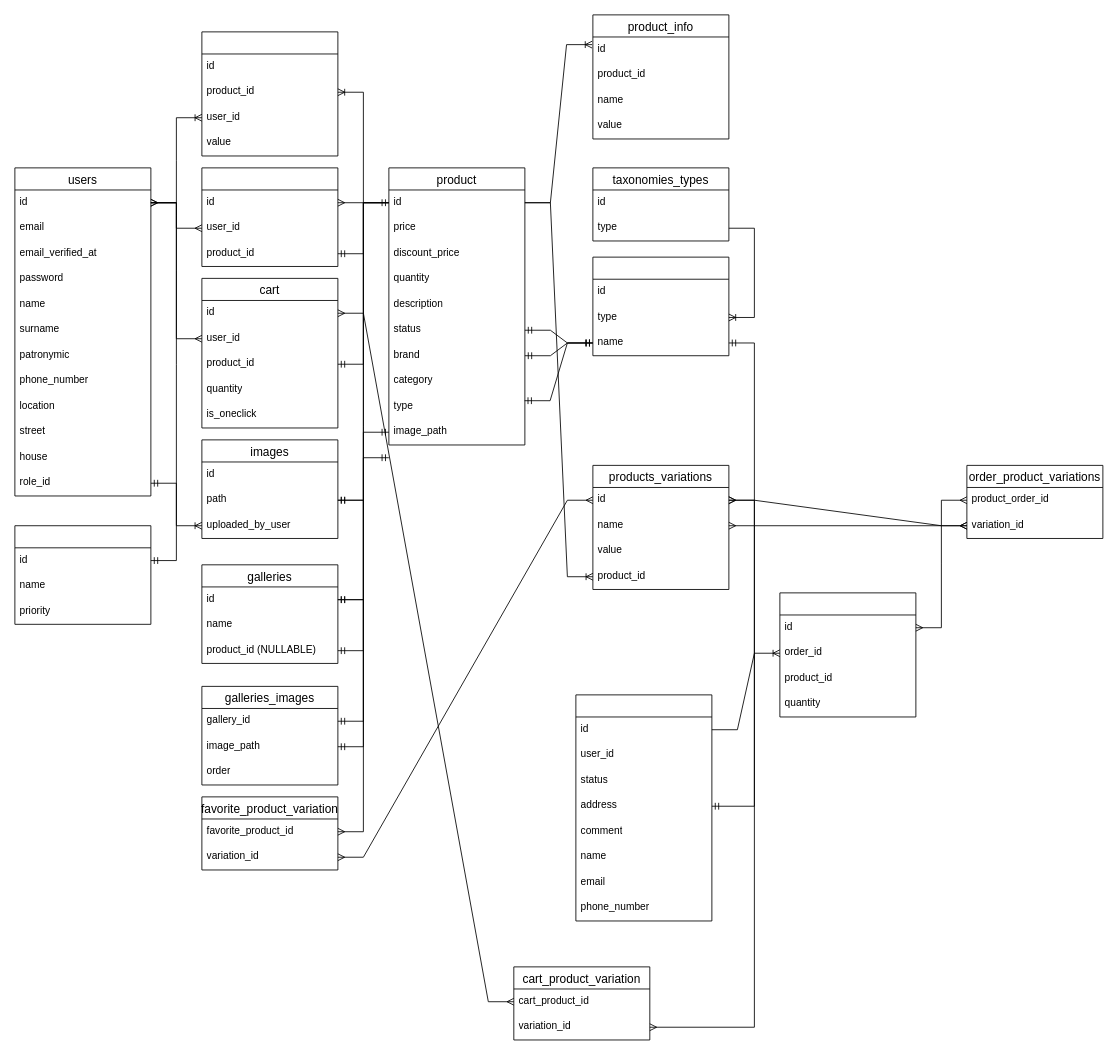
The diagram is 1118 pixels wide and 1057 high, and some of its shapes have lost their labels. The shapes that lost their labels are listed below. From the top down, each one's box as (x1, y1, x2, y2) in pixels, then its label:
(201, 31, 338, 156): product_rating
(201, 167, 338, 266): favorites
(592, 256, 729, 356): taxonomies
(14, 525, 151, 624): roles
(779, 592, 916, 717): user_product_orders
(575, 694, 712, 921): orders
